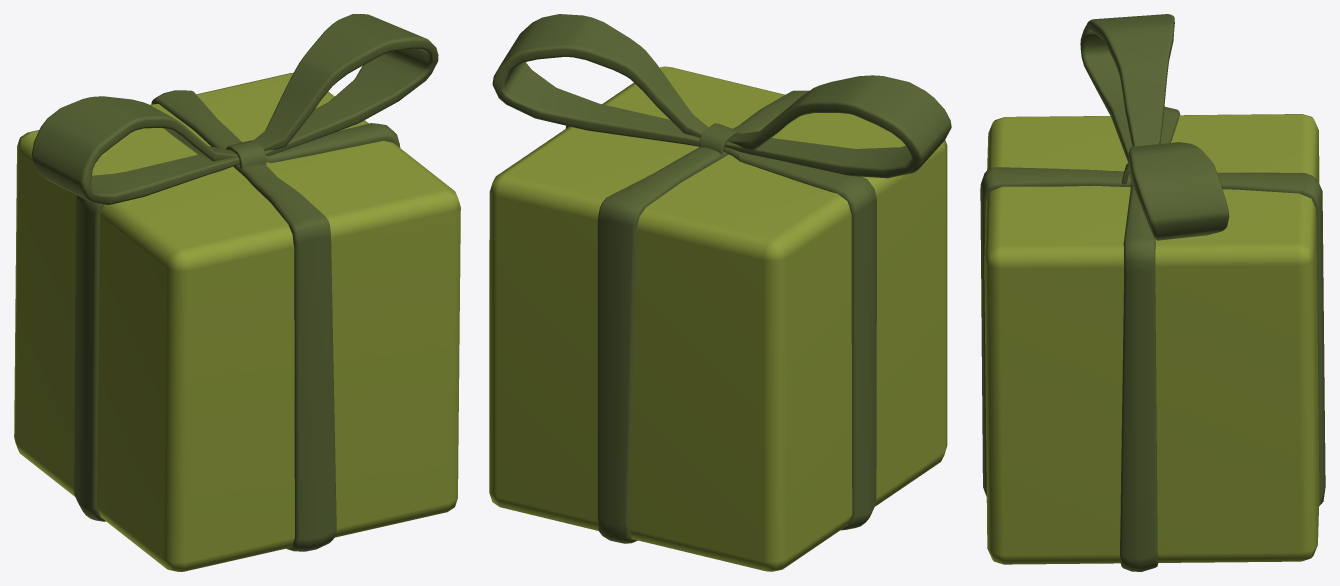
File: Gift_Small.fbx
3 renders of one model, left to right at view 1: azimuth 30°, elevation 25°; view 2: azimuth 150°, elevation 25°; view 3: azimuth 270°, elevation 25°, orthographic. The views are drawn at different scales.
Parts seen in each view (by area): view 1: youleback08; view 2: youleback08; view 3: youleback08.
Boxes of the visible parts, x1,y1,x2,y2 form: youleback08: (14,14,460,571); youleback08: (489,14,951,571); youleback08: (980,14,1325,571).
Size of the model in its own units: 1.29 by 1.32 by 0.9733.
